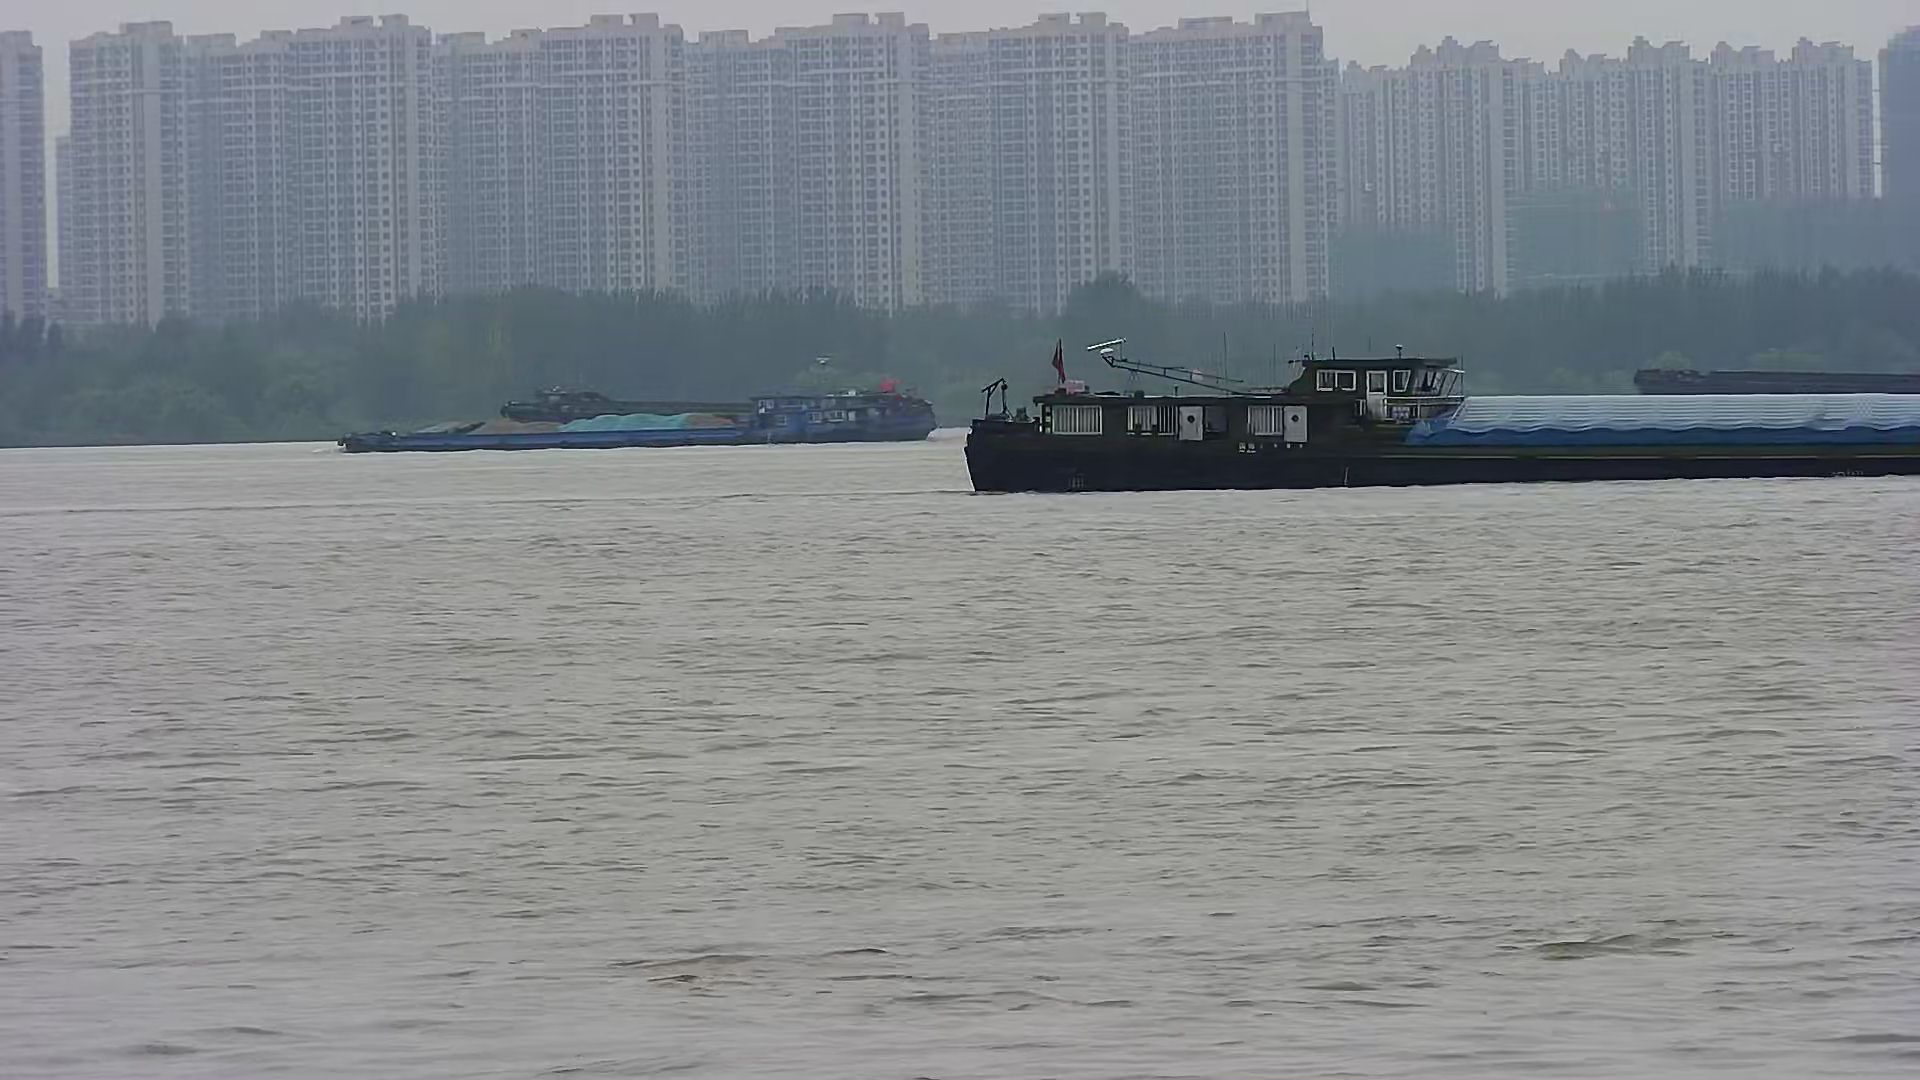ship: (963, 335, 1920, 491), (335, 365, 942, 454), (1630, 365, 1920, 427)
